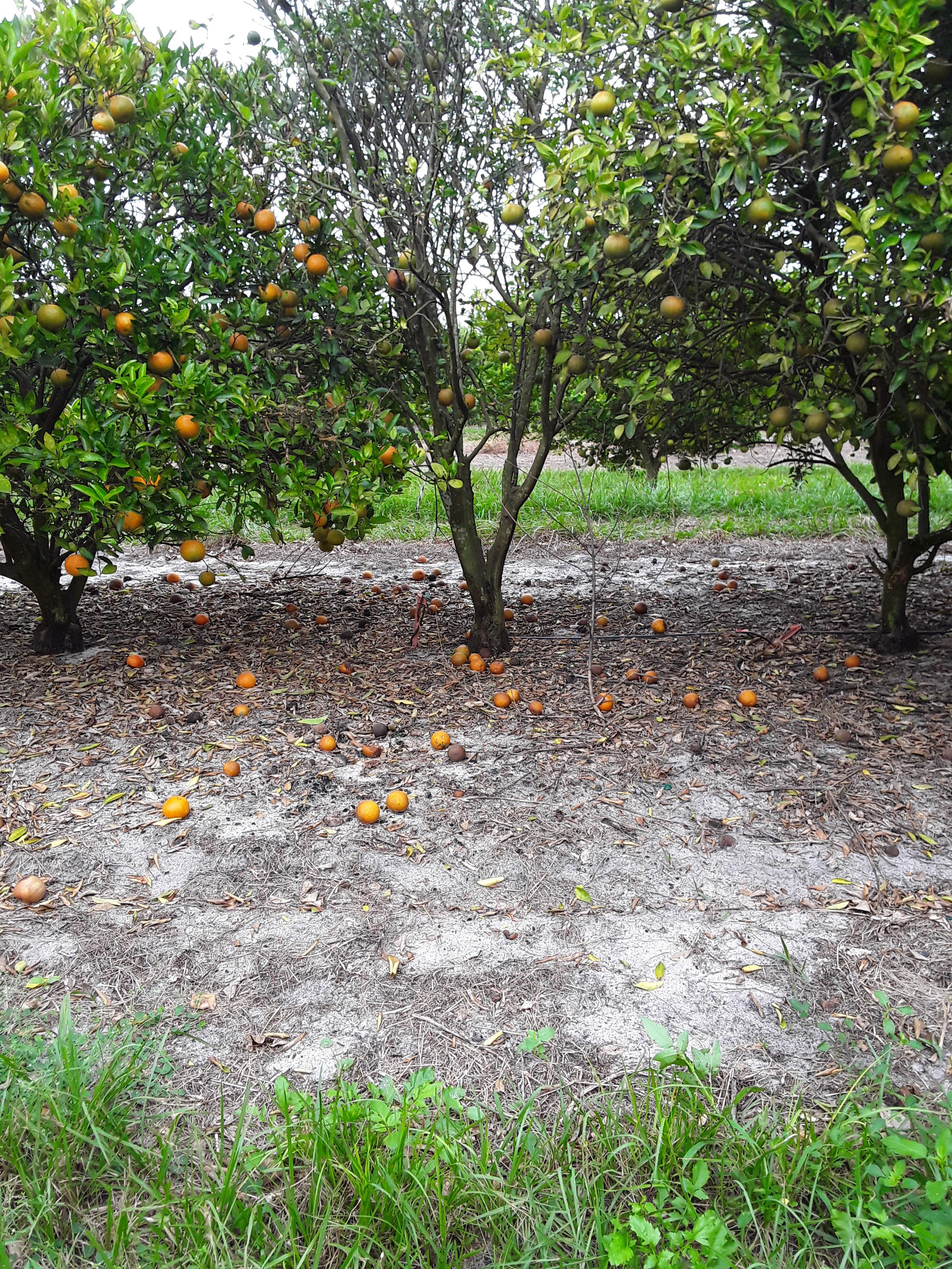fruit_on_ground: (105, 502, 143, 538), (599, 229, 635, 265), (884, 96, 924, 128), (877, 139, 914, 173), (313, 386, 350, 418), (60, 548, 98, 579), (369, 442, 406, 472), (741, 194, 775, 226), (34, 302, 68, 334), (130, 461, 166, 491), (800, 407, 832, 439), (106, 91, 140, 121), (144, 346, 178, 375), (494, 200, 530, 227), (588, 87, 620, 117), (170, 412, 202, 442), (915, 230, 949, 258), (249, 208, 280, 238), (52, 210, 83, 240), (178, 536, 210, 565), (17, 191, 47, 221), (844, 329, 874, 358), (186, 473, 217, 501), (345, 497, 376, 525), (133, 373, 169, 397), (112, 307, 140, 337), (656, 292, 686, 320), (891, 490, 920, 518), (46, 362, 75, 390), (107, 386, 136, 414), (200, 306, 233, 330), (819, 295, 850, 320), (768, 402, 797, 428), (326, 280, 353, 307), (88, 110, 116, 136), (224, 330, 252, 356), (0, 175, 26, 203), (306, 250, 331, 279), (572, 209, 601, 234), (296, 211, 326, 235), (86, 156, 113, 182), (562, 353, 593, 375), (270, 319, 297, 344), (52, 181, 80, 205), (531, 323, 557, 348), (165, 138, 190, 163), (434, 383, 457, 410), (383, 264, 406, 291), (0, 83, 22, 111), (423, 46, 448, 70), (320, 494, 347, 516), (4, 243, 31, 264), (254, 279, 278, 302), (396, 245, 420, 268), (231, 198, 254, 221), (277, 287, 300, 310), (194, 568, 219, 589), (242, 26, 264, 49), (383, 46, 405, 69), (290, 242, 312, 263), (303, 510, 327, 529), (313, 32, 334, 53), (460, 391, 480, 411), (327, 528, 347, 547), (374, 337, 393, 356), (308, 527, 330, 543), (314, 537, 336, 553), (495, 348, 513, 366), (0, 158, 12, 183), (464, 333, 482, 348), (676, 458, 691, 472), (709, 461, 720, 471), (739, 443, 749, 453), (723, 457, 732, 467)
fruit_on_tree: (9, 872, 49, 905), (159, 795, 193, 820), (353, 800, 380, 823), (386, 790, 409, 814), (428, 730, 453, 750), (592, 691, 617, 711), (233, 671, 257, 689), (737, 689, 758, 709), (681, 689, 700, 710), (316, 734, 336, 753), (447, 743, 468, 761), (222, 759, 242, 777), (126, 652, 144, 671), (492, 690, 511, 708), (518, 590, 536, 607), (812, 666, 830, 683), (842, 652, 860, 669), (650, 617, 669, 633), (231, 701, 251, 716), (642, 667, 659, 684), (282, 616, 300, 632), (147, 703, 166, 718), (632, 601, 649, 617), (527, 700, 545, 715), (107, 577, 124, 592), (488, 661, 505, 676), (468, 657, 485, 671), (505, 688, 522, 702), (167, 590, 183, 604), (283, 601, 299, 615), (450, 652, 466, 666), (338, 660, 353, 674), (626, 667, 641, 681), (500, 607, 516, 620), (588, 663, 604, 676), (313, 613, 328, 626), (455, 645, 470, 658), (166, 570, 179, 584), (194, 613, 208, 626), (411, 568, 426, 580), (716, 569, 731, 581), (711, 580, 726, 592), (595, 615, 610, 626), (370, 582, 383, 594), (427, 603, 440, 614), (408, 606, 421, 617), (429, 565, 441, 576), (458, 580, 470, 591), (431, 596, 443, 607), (709, 557, 721, 568), (340, 573, 352, 584), (183, 580, 196, 590), (467, 652, 481, 661), (727, 579, 738, 590), (416, 553, 427, 563), (361, 570, 373, 579), (400, 582, 410, 590)
